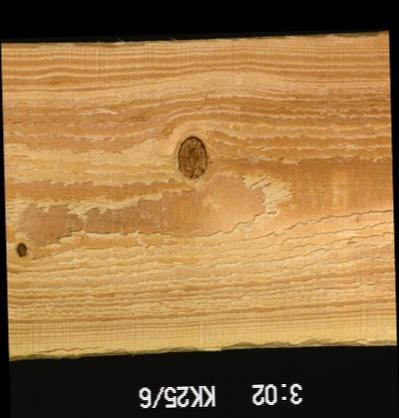dry_knot: (175, 134, 209, 182), (14, 239, 29, 260)
split: (28, 339, 105, 353)
wave: (137, 337, 395, 350), (1, 38, 143, 49)
